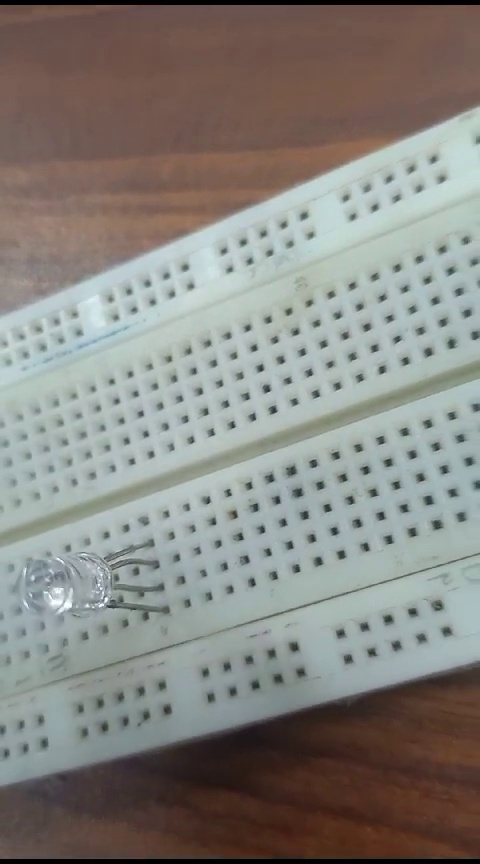LED: (11, 552, 166, 613)
